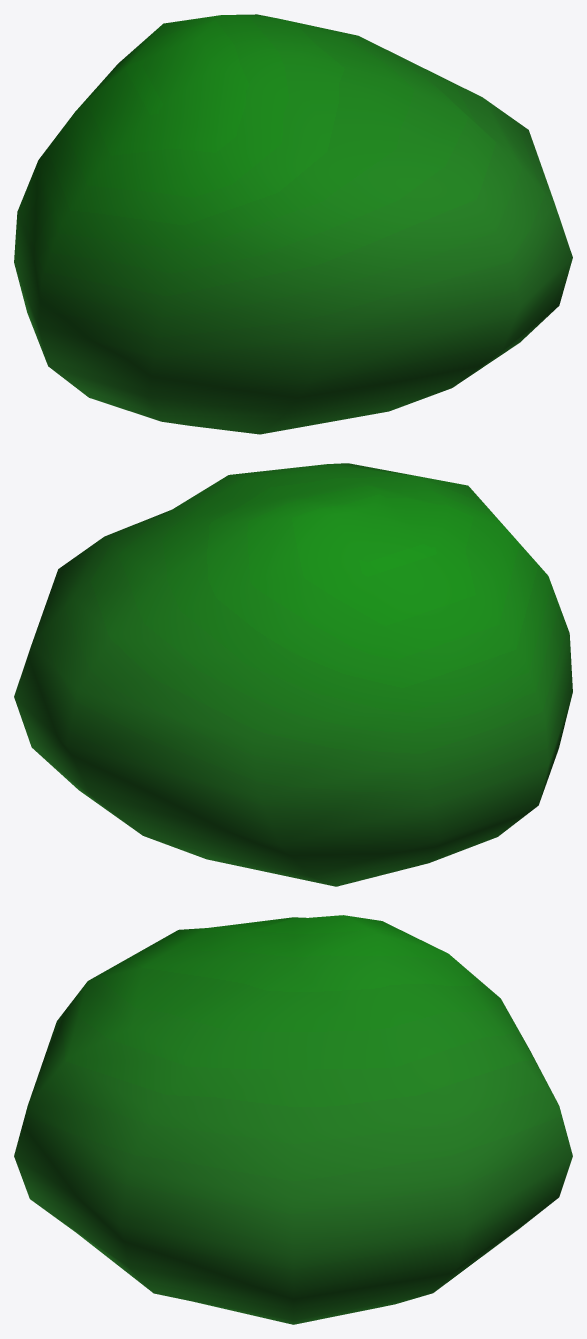
The model's file is SM_Bush_02.fbx.
3 views of the same model, one above another, from view 1: azimuth 30°, elevation 25°; view 2: azimuth 150°, elevation 25°; view 3: azimuth 270°, elevation 25° (orthographic). The views are drawn at different scales.
Parts seen in each view (by area): view 1: SM_Bush_02; view 2: SM_Bush_02; view 3: SM_Bush_02.
Boxes of the visible parts, left/top/right/bottom form: SM_Bush_02: left=14, top=14, right=572, bottom=434; SM_Bush_02: left=14, top=463, right=572, bottom=886; SM_Bush_02: left=14, top=915, right=572, bottom=1324.
Bounding box in the file's own units: 444 × 290 × 443.
1 material, 1 textured.
